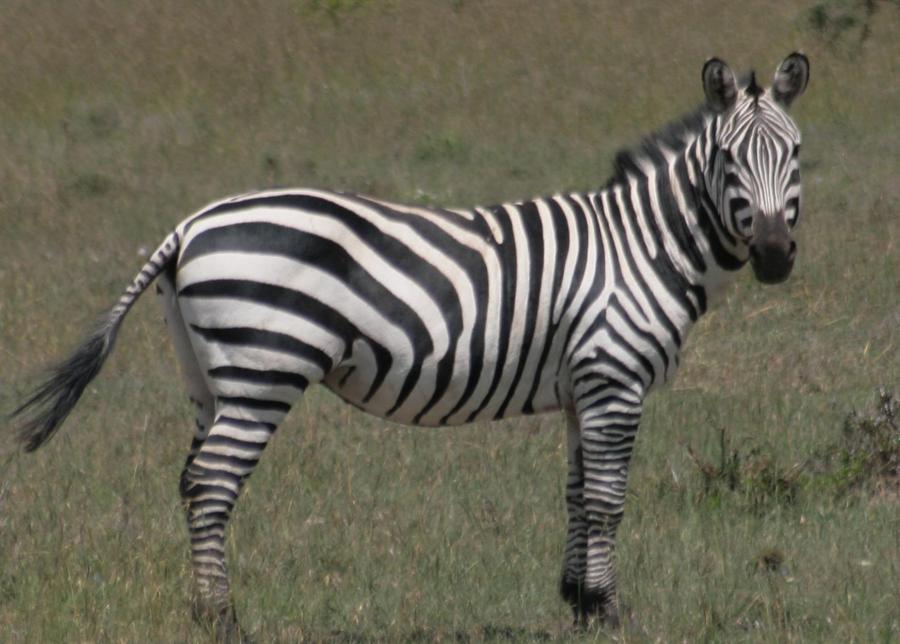zebra_plains: (175, 143, 697, 457)
